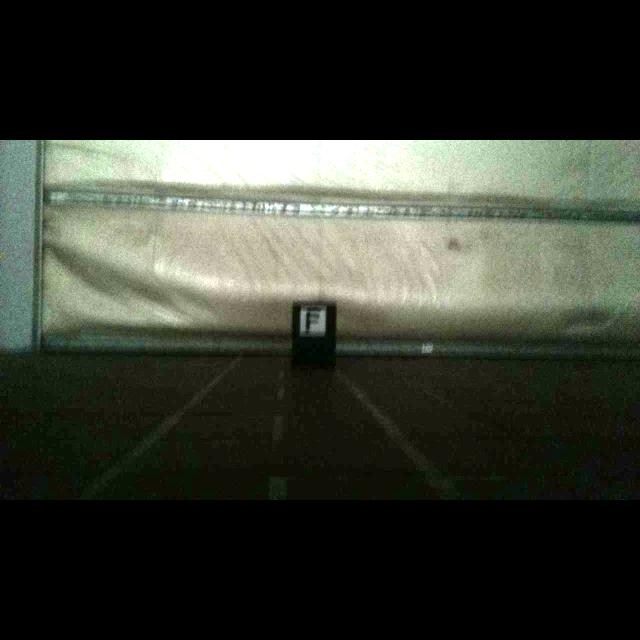F: (306, 307, 321, 334)
